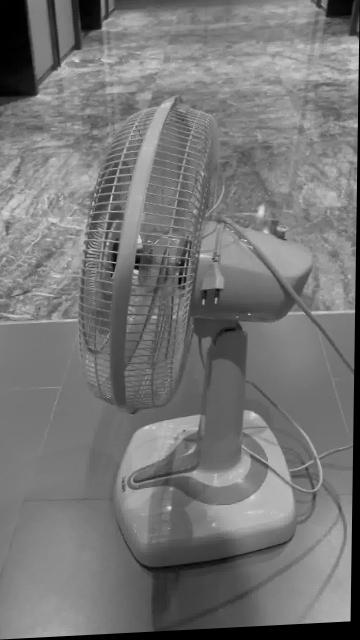Fan: (79, 97, 314, 572)
